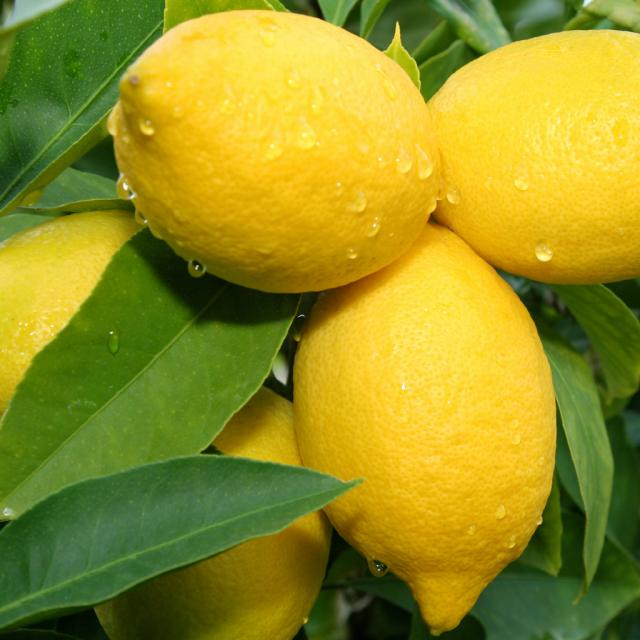lemon: (281, 218, 565, 639), (111, 5, 446, 295)
